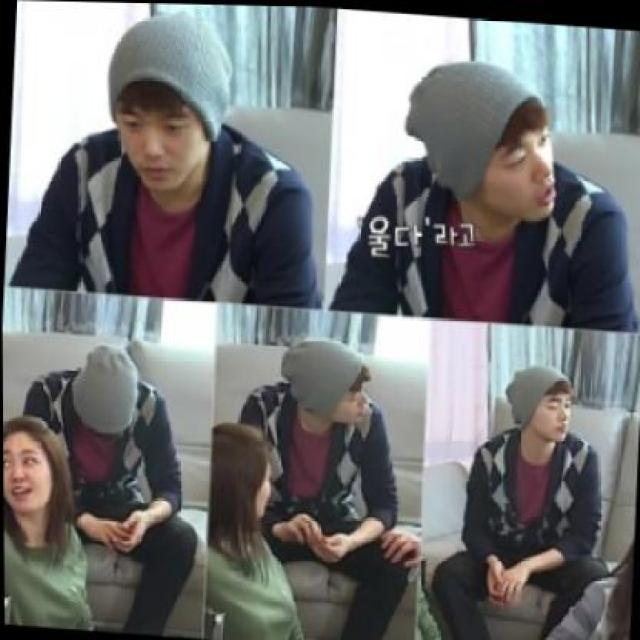hat: (394, 48, 554, 209), (97, 1, 245, 144), (272, 327, 372, 427), (63, 332, 145, 440), (495, 351, 579, 434)
